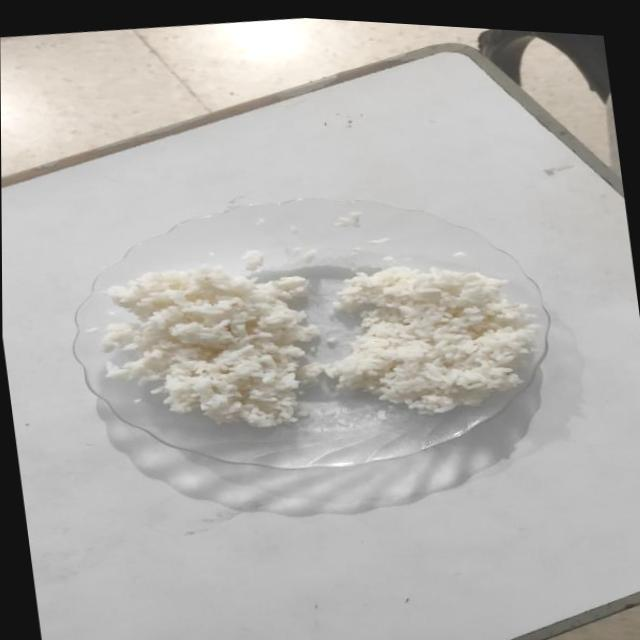nasi_putih: (100, 266, 320, 427), (331, 266, 536, 414)
